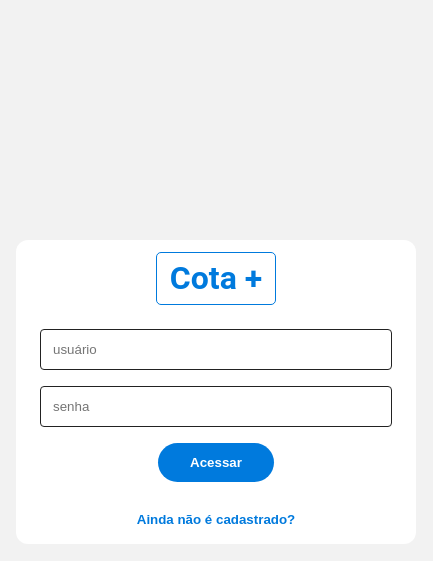
Test: LoginForm › validate wrong password
The width and height of the screenshot is (433, 561).
Type "usuarioErrado" into the field with id "login".
click(216, 350); type("usuarioErrado")  # box [40,329,392,370]
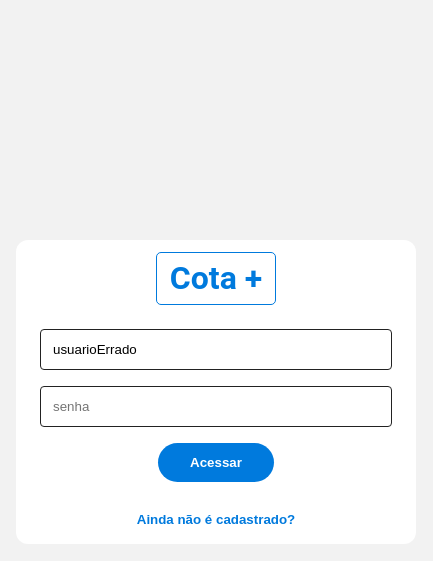
Type "senhaErrada" into the password field with placeholder "senha".
click(216, 407); type("senhaErrada")  # box [40,386,392,427]
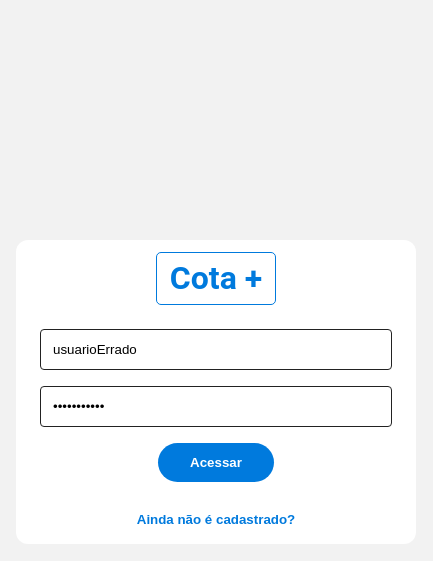
Submit the form with class "form", box [16,305,416,506]
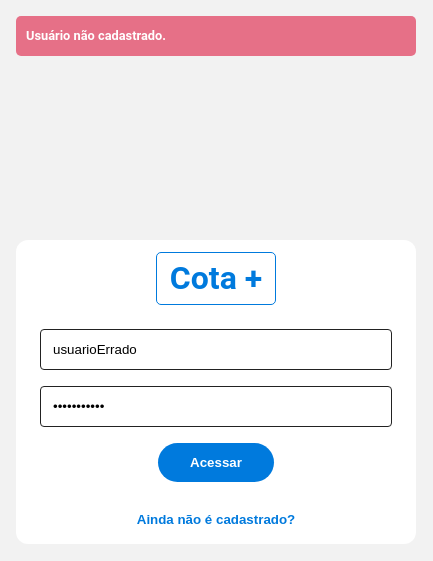
expect the text with class "alert" reads "Usuário não cadastrado.": met, box [26,28,166,43]
